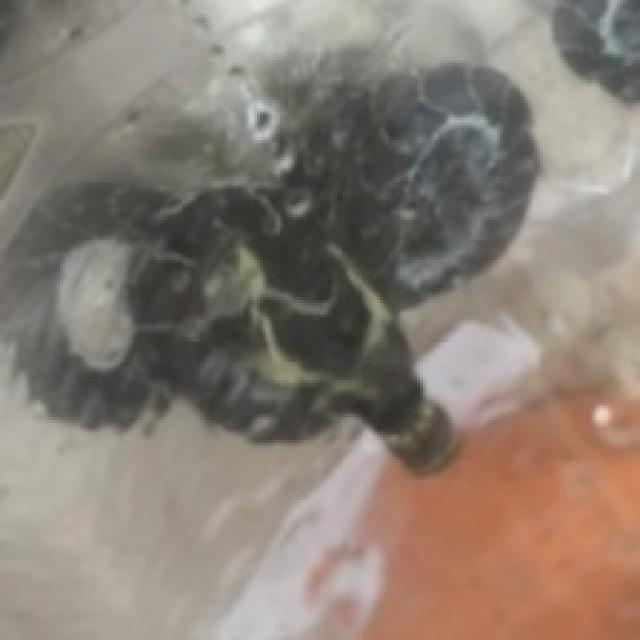king cobra: (0, 0, 537, 469)
